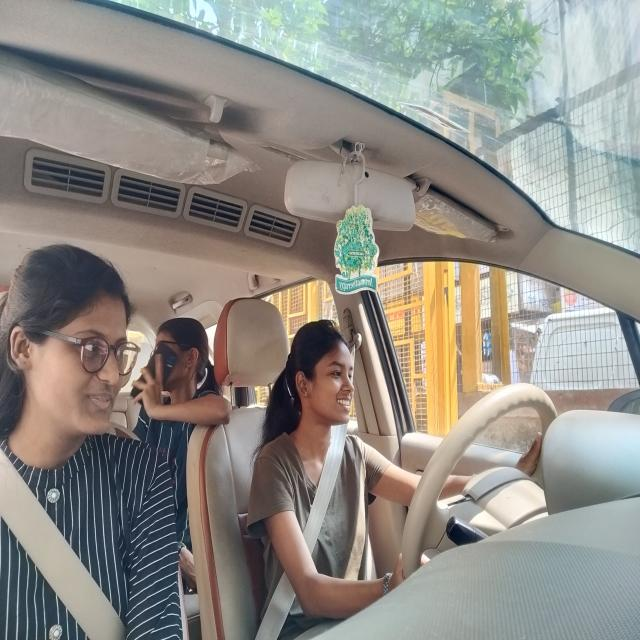person: (11, 248, 135, 444), (287, 320, 357, 438), (155, 319, 212, 400)
